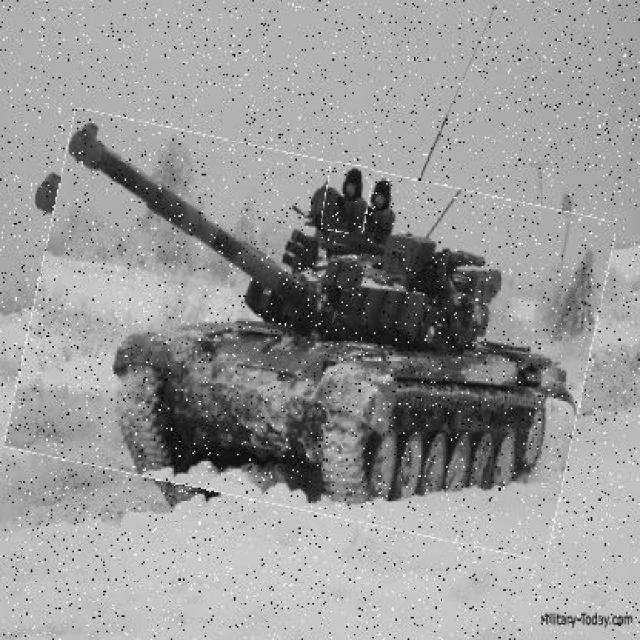Person: (324, 164, 373, 235)
Tank: (21, 136, 604, 535)
